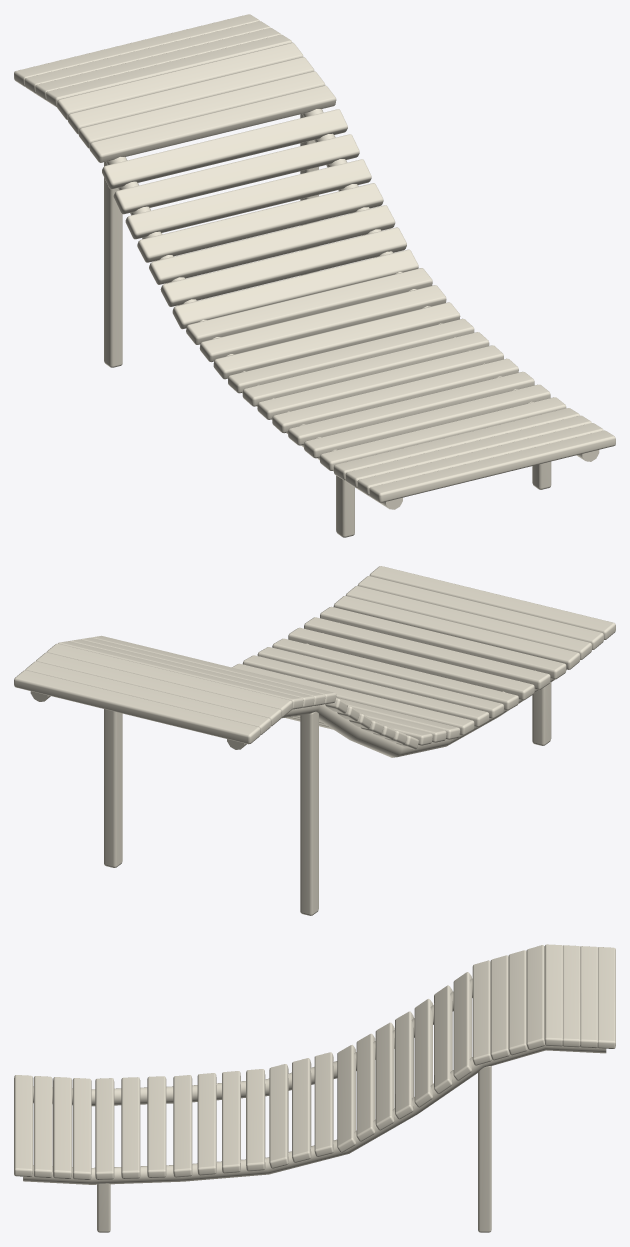
File: outdoor-pool-lounger.glb
3 views of the same model, one above another, from view 1: azimuth 30°, elevation 25°; view 2: azimuth 150°, elevation 25°; view 3: azimuth 270°, elevation 25° (orthographic). The views are drawn at different scales.
Parts seen in each view (by area): view 1: outdoor-pool-lounger authored assembly; view 2: outdoor-pool-lounger authored assembly; view 3: outdoor-pool-lounger authored assembly.
Part boxes in pixels (x1,y1,x2,y2): outdoor-pool-lounger authored assembly: (14, 14, 615, 537); outdoor-pool-lounger authored assembly: (14, 566, 615, 915); outdoor-pool-lounger authored assembly: (14, 944, 615, 1232).
Bounding box in the file's own units: 0.72 × 0.71 × 1.93.
